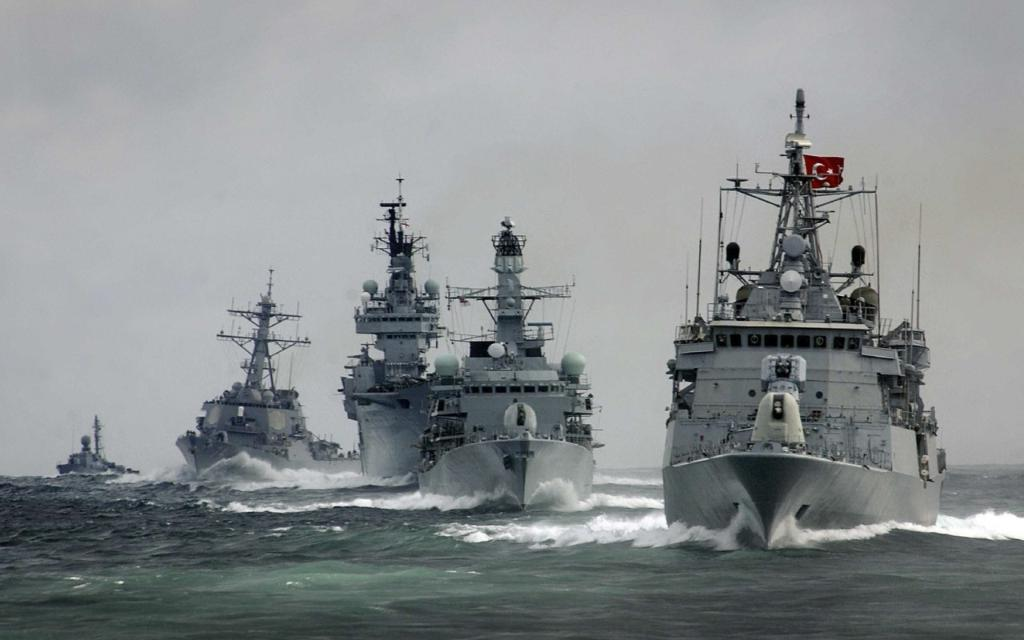Warship: (655, 87, 941, 561), (420, 198, 602, 522), (336, 188, 464, 494), (171, 279, 363, 483), (52, 413, 148, 479)
